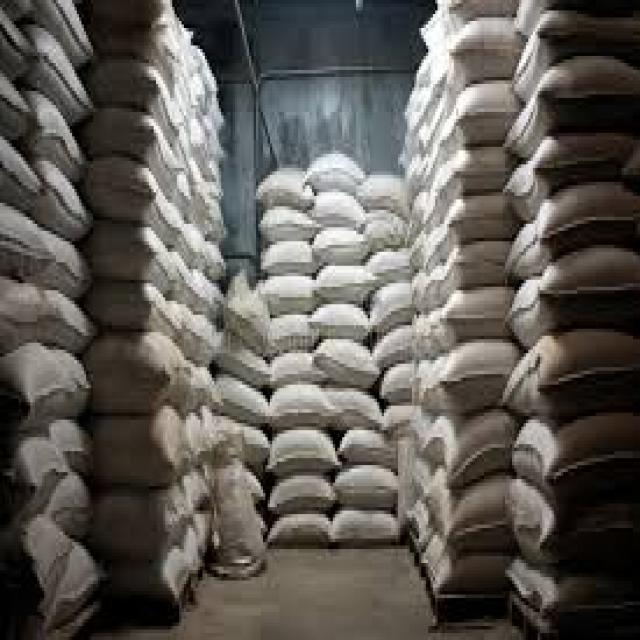cement_bag: (512, 56, 638, 157), (513, 178, 636, 278), (503, 328, 639, 410), (511, 248, 635, 336), (513, 408, 636, 496), (85, 153, 186, 256), (92, 470, 209, 558), (98, 400, 204, 495), (91, 318, 195, 411), (95, 55, 186, 148), (508, 553, 625, 623), (421, 336, 516, 415), (427, 411, 512, 491), (19, 510, 79, 621), (3, 345, 79, 431), (429, 476, 509, 555), (29, 30, 94, 123), (440, 78, 519, 154), (98, 223, 175, 300), (12, 425, 73, 520), (93, 278, 184, 340), (29, 90, 90, 178), (431, 288, 519, 345), (435, 144, 505, 211), (439, 236, 516, 294), (42, 162, 95, 235), (269, 431, 337, 483), (43, 291, 99, 351), (335, 465, 402, 515), (310, 301, 373, 351), (267, 476, 337, 520), (216, 338, 272, 393), (272, 381, 334, 430), (334, 505, 397, 550), (215, 380, 270, 431), (269, 513, 334, 556), (339, 426, 396, 475), (317, 341, 375, 388), (260, 158, 310, 210), (320, 258, 375, 303), (269, 348, 321, 395), (372, 280, 414, 338), (362, 177, 410, 225), (48, 236, 88, 293), (263, 240, 316, 281), (310, 157, 367, 192), (269, 271, 315, 313), (317, 230, 369, 266), (269, 205, 317, 243), (273, 311, 313, 355)
